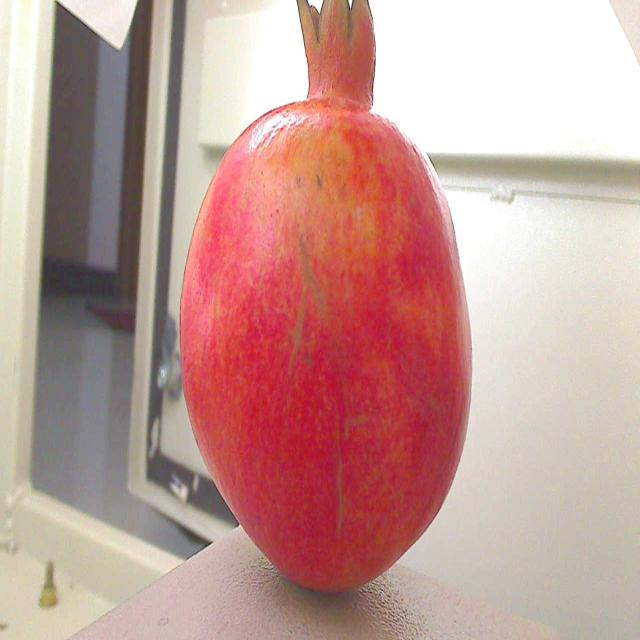pomegranate: (174, 0, 486, 606)
